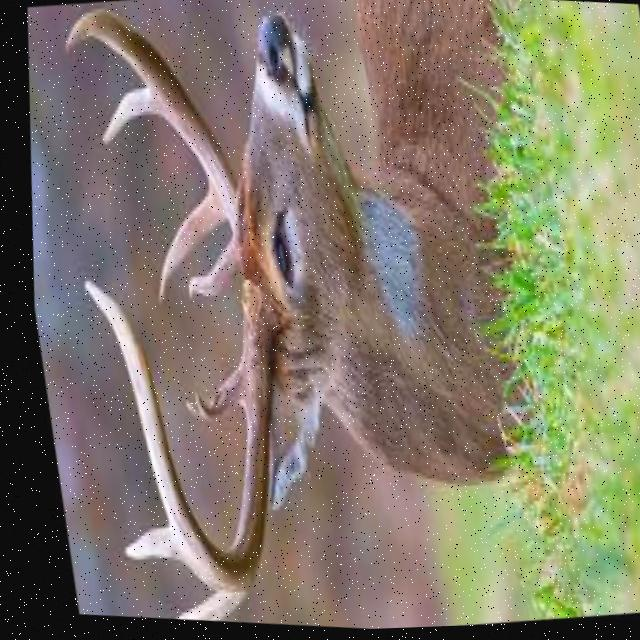L-G1: (180, 239, 233, 301)
L-G2: (150, 183, 222, 306)
L-G3: (97, 89, 156, 144)
R-F: (74, 275, 270, 593)
R-G1: (174, 362, 234, 422)
R-G3: (111, 528, 169, 563)
